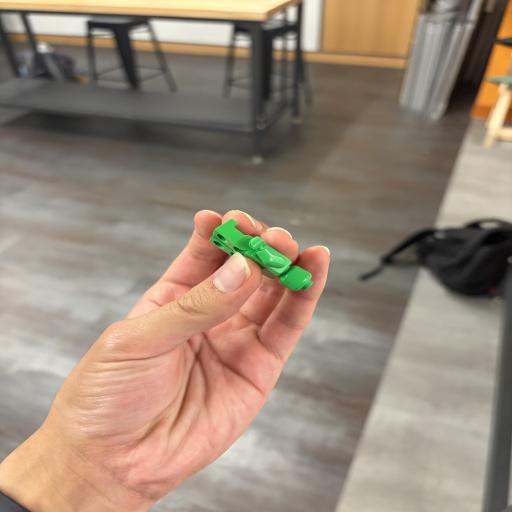Green-Lego: (210, 219, 313, 291)
